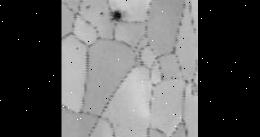good_void: (111, 9, 125, 24), (85, 5, 91, 10), (99, 10, 103, 16), (76, 47, 79, 51)
